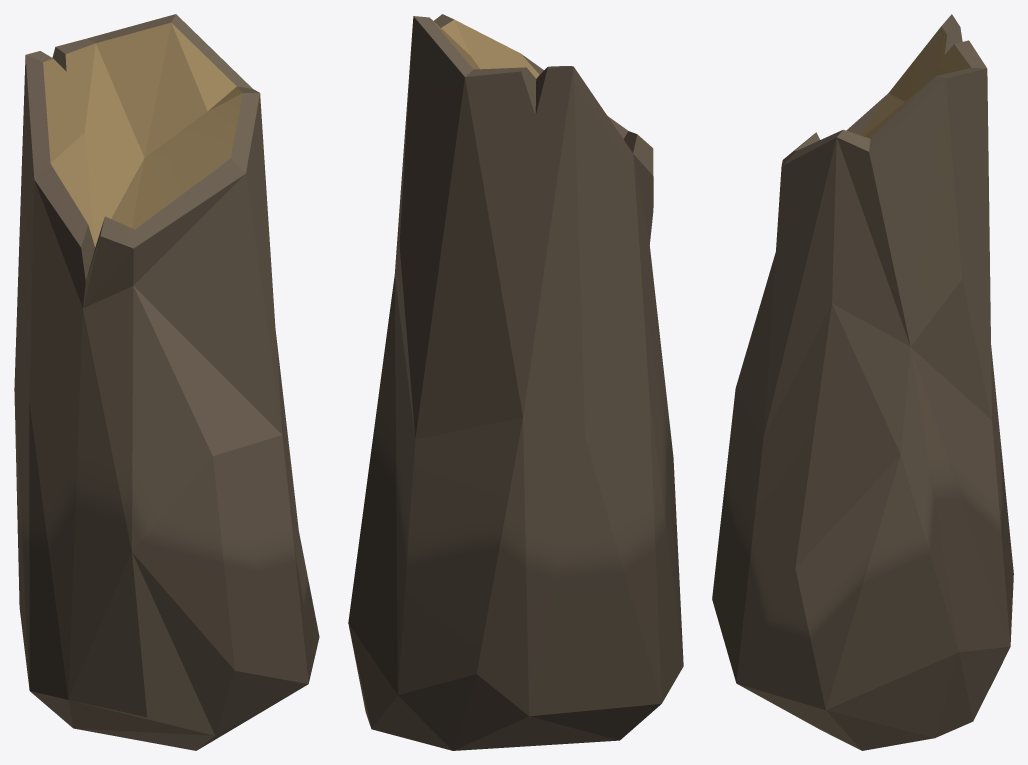
The model's file is SM_Gen_Env_Stump_01.obj.
The picture shows the model from 3 angles, left to right: view 1: azimuth 30°, elevation 25°; view 2: azimuth 150°, elevation 25°; view 3: azimuth 270°, elevation 25°; orthographic projection. The views are drawn at different scales.
Parts seen in each view (by area): view 1: SM_Gen_Env_Stump_01_0; view 2: SM_Gen_Env_Stump_01_0; view 3: SM_Gen_Env_Stump_01_0.
Boxes of the visible parts, x1,y1,x2,y2 form: SM_Gen_Env_Stump_01_0: [14, 14, 319, 750]; SM_Gen_Env_Stump_01_0: [348, 14, 683, 750]; SM_Gen_Env_Stump_01_0: [712, 14, 1013, 750].
Bounding box in the file's own units: 0.5883 × 1.43 × 0.5802.
Materials: 1 (1 with a texture image).
